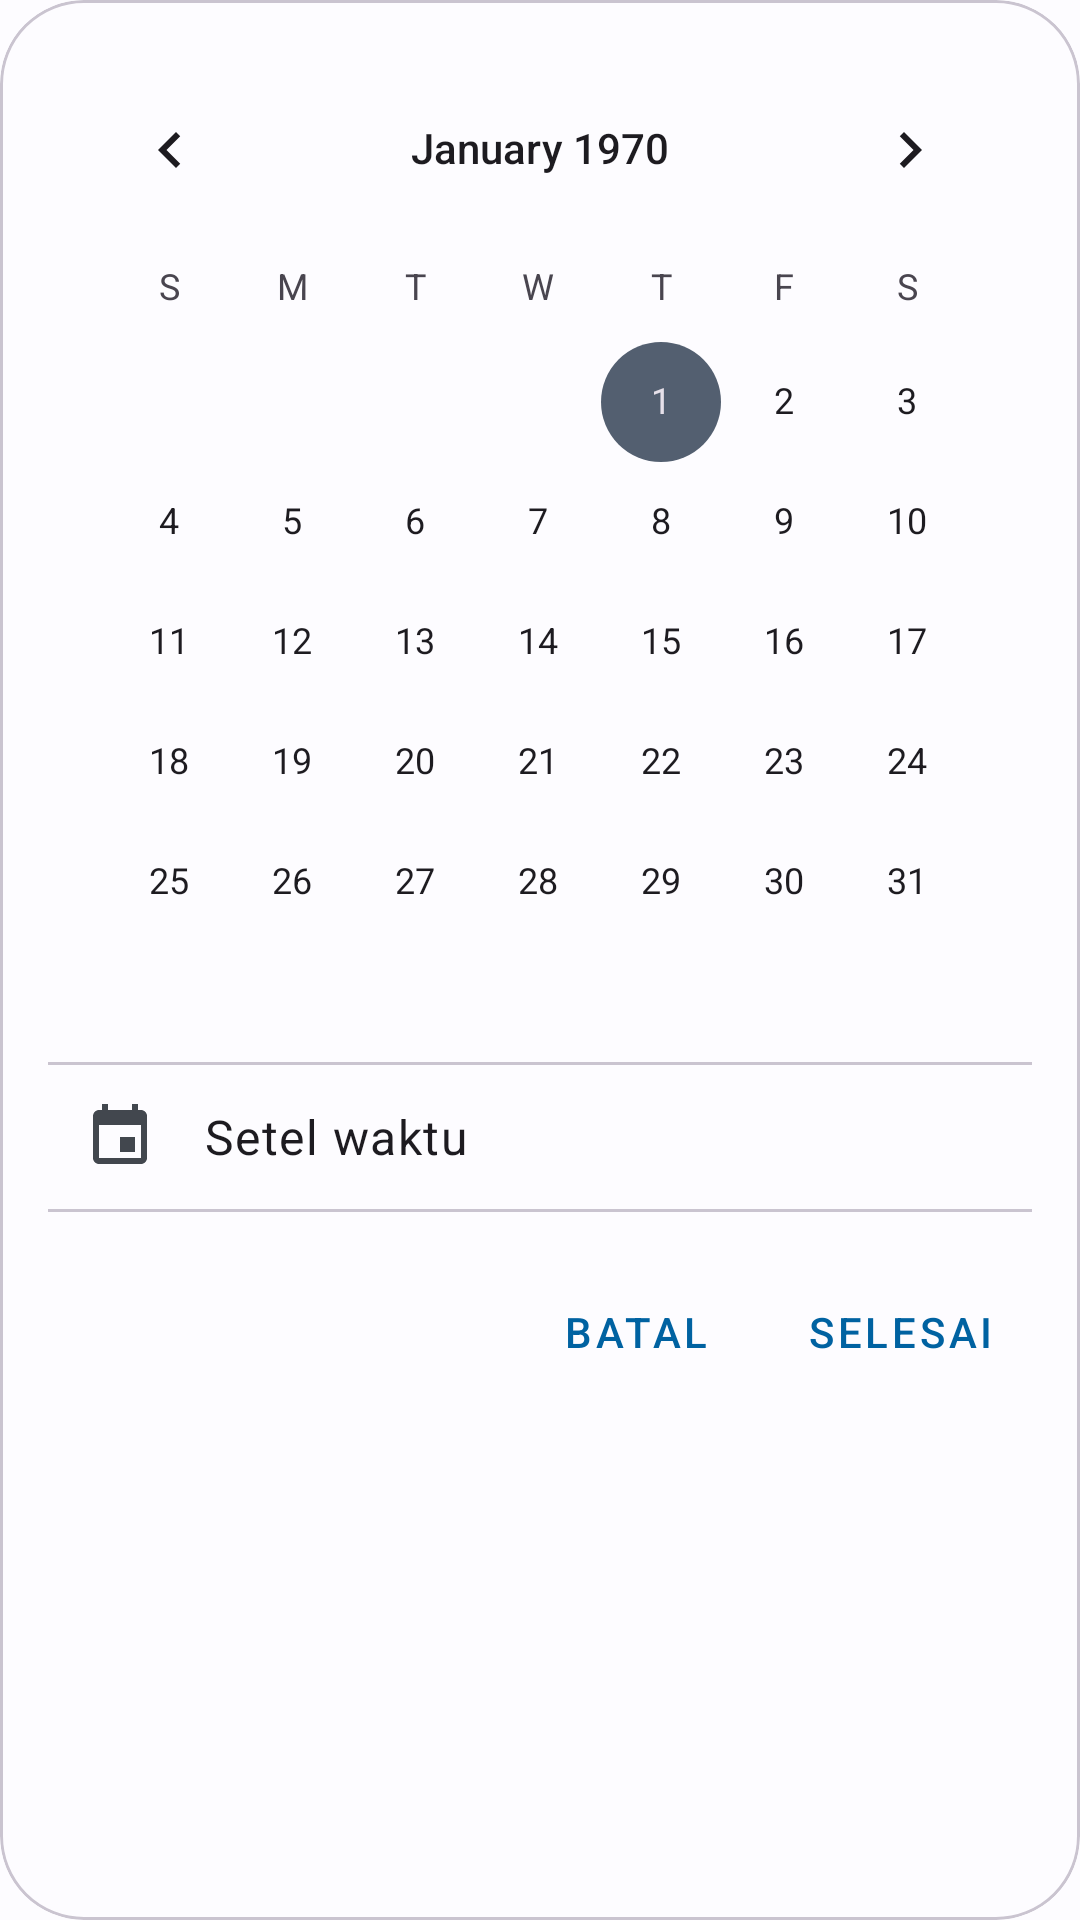

Locate icon controls on the screen. Image size 1080w x 1920h, boxes as BBox(x1, y1, x2, y2).
deadline: BBox(93, 1104, 147, 1164)
